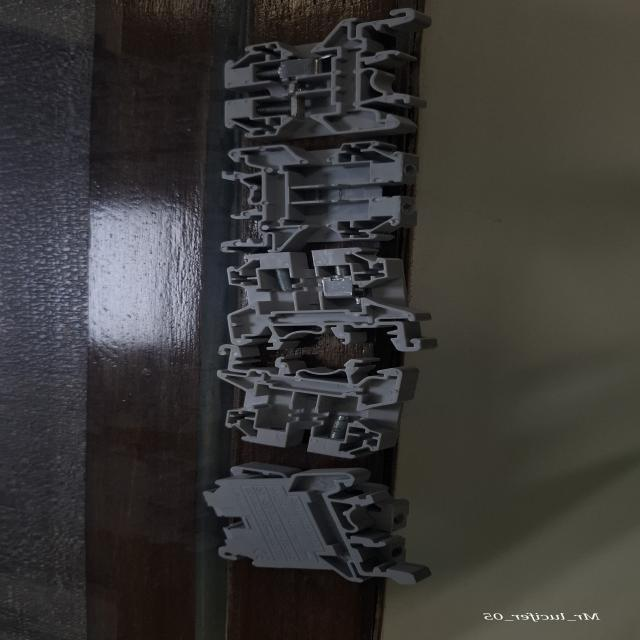Inverted: (215, 466, 422, 582)
Reject: (218, 8, 430, 140), (212, 140, 418, 252), (216, 349, 424, 455), (226, 249, 436, 349)
